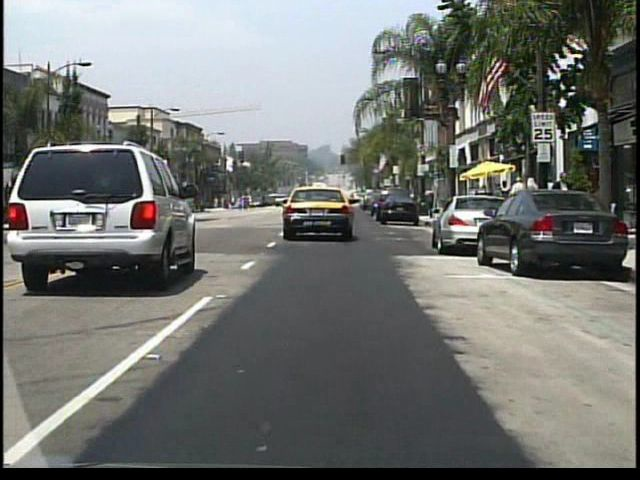person: (549, 168, 577, 236), (510, 175, 529, 217), (542, 175, 557, 218), (523, 178, 538, 215), (498, 179, 512, 218), (260, 192, 268, 207)
